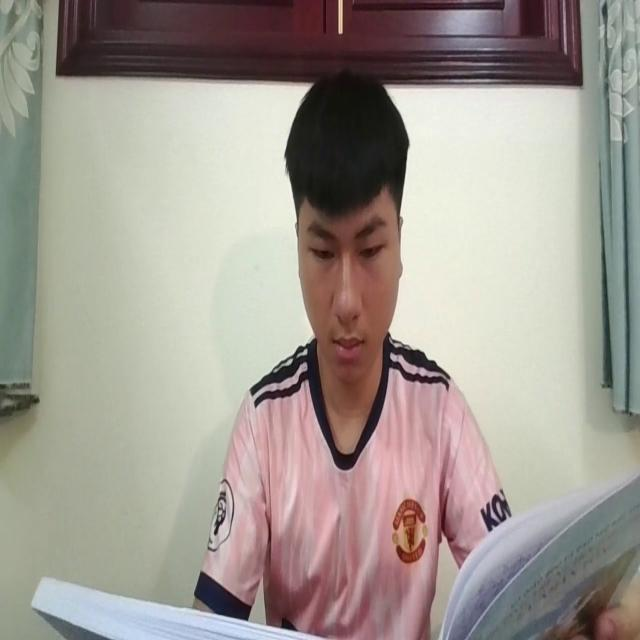book: (441, 459, 640, 640), (33, 559, 330, 640)
student: (198, 56, 510, 628)
